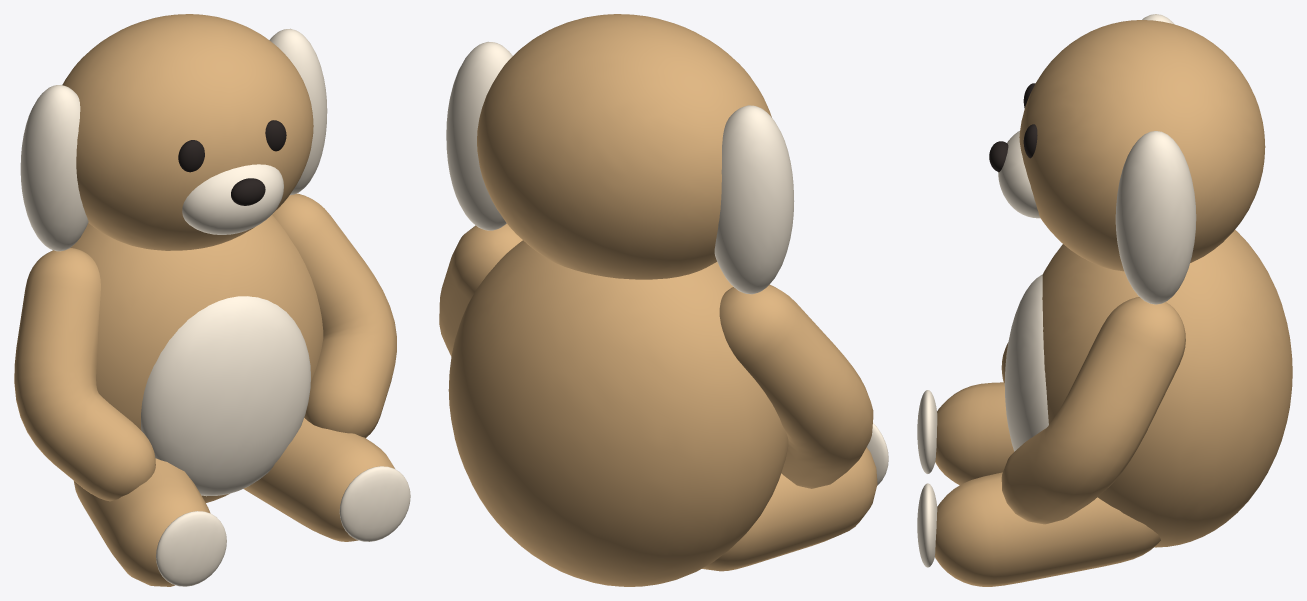
File: deco_perro_peluche.glb
The picture shows the model from 3 angles, left to right: view 1: azimuth 30°, elevation 25°; view 2: azimuth 150°, elevation 25°; view 3: azimuth 270°, elevation 25°; orthographic projection. The views are drawn at different scales.
Visible parts, largest first — view 1: cabeza perrito.001, barriga perrito.001, panza perrito.001, brazo.026, brazo.027, pierna.025, oreja perro.006, pierna.024, hocico.012, planta pata.025, planta pata.024, oreja perro.007 (+3 smaller); view 2: panza perrito.001, cabeza perrito.001, brazo.026, oreja perro.006, pierna.024, oreja perro.007, brazo.027, planta pata.024; view 3: panza perrito.001, cabeza perrito.001, brazo.027, pierna.025, oreja perro.007, pierna.024, barriga perrito.001, hocico.012, planta pata.024, planta pata.025.
Boxes of the visible parts, bbox=[...] form: cabeza perrito.001: bbox=[62, 14, 313, 250]; barriga perrito.001: bbox=[141, 296, 310, 496]; panza perrito.001: bbox=[70, 215, 323, 502]; brazo.026: bbox=[14, 248, 155, 501]; brazo.027: bbox=[272, 193, 396, 437]; pierna.025: bbox=[243, 418, 394, 541]; oreja perro.006: bbox=[20, 85, 88, 251]; pierna.024: bbox=[74, 458, 210, 586]; hocico.012: bbox=[182, 164, 283, 234]; planta pata.025: bbox=[339, 466, 410, 541]; planta pata.024: bbox=[156, 511, 226, 586]; oreja perro.007: bbox=[269, 28, 327, 195]; panza perrito.001: bbox=[448, 240, 788, 586]; cabeza perrito.001: bbox=[477, 14, 771, 279]; brazo.026: bbox=[719, 284, 873, 488]; oreja perro.006: bbox=[714, 105, 794, 294]; pierna.024: bbox=[702, 447, 877, 571]; oreja perro.007: bbox=[446, 41, 512, 230]; brazo.027: bbox=[439, 223, 522, 356]; planta pata.024: bbox=[867, 423, 888, 485]; panza perrito.001: bbox=[1042, 230, 1292, 547]; cabeza perrito.001: bbox=[1019, 20, 1265, 271]; brazo.027: bbox=[1001, 297, 1185, 524]; pierna.025: bbox=[935, 472, 1160, 586]; oreja perro.007: bbox=[1115, 131, 1196, 304]; pierna.024: bbox=[935, 382, 1013, 485]; barriga perrito.001: bbox=[1004, 274, 1048, 451]; hocico.012: bbox=[998, 131, 1040, 218]; planta pata.024: bbox=[917, 390, 937, 473]; planta pata.025: bbox=[917, 483, 937, 567].
Bounding box in the file's own units: 0.3188 × 0.399 × 0.2716.
